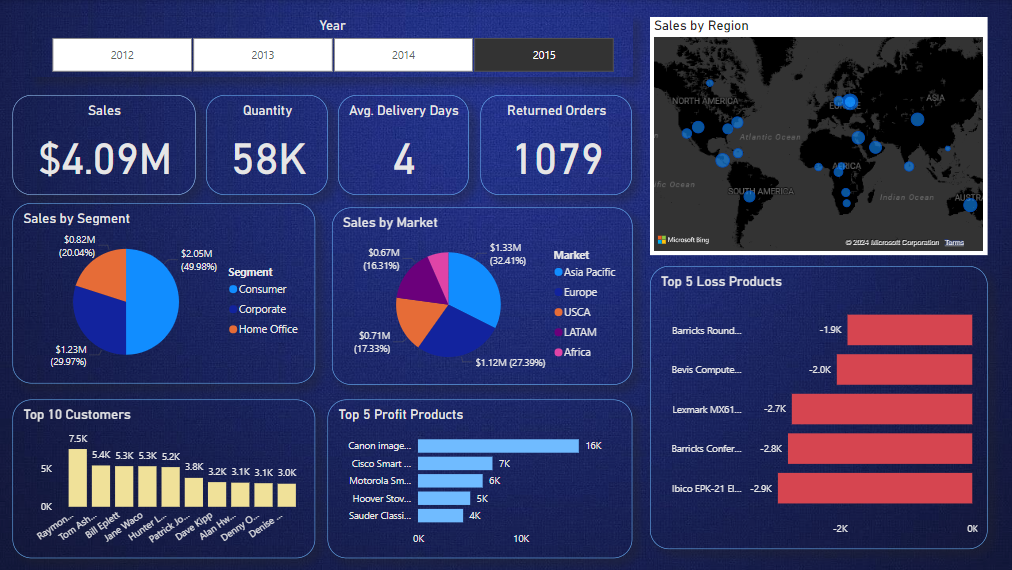

The page's visual inventory and layout, read from the dashboard file:
{"tool":"powerbi","page":{"name":"Page 1","canvas":[1280,720],"ordinal":0},"visuals":[{"type":"card","title":"Sales","fields":{"Values":["Orders.Sales"]},"box":[17.8,120.7,230.3,126.1],"z":0},{"type":"card","title":"Quantity","fields":{"Values":["Orders.Quantity"]},"box":[260.5,120.7,153.6,126.1],"z":1000},{"type":"card","title":"Avg. Delivery Days","fields":{"Values":["Orders.Delivery Days"]},"box":[427.8,120.7,164.5,126.1],"z":2000},{"type":"slicer","title":"Year","fields":{"Values":["Orders.Year"]},"box":[41.1,21.9,756.8,75.4],"z":3000},{"type":"card","title":"Returned Orders","fields":{"Values":["Returns.Return Num"]},"box":[607.4,120.7,190.6,126.1],"z":4000},{"type":"map","title":" Sales by Region","fields":{"Category":["Orders.Region"],"Size":["Orders.Sales"]},"box":[819.9,21.9,425,300.3],"z":5000},{"type":"clusteredBarChart","title":"Top 5 Profit Products","fields":{"Y":["Orders.Profit"],"Category":["Orders.Product Name"]},"box":[414.1,504.5,383.9,200.2],"z":6000},{"type":"clusteredBarChart","title":"Top 5 Loss Products","fields":{"Y":["Orders.Profit"],"Category":["Orders.Product Name"]},"box":[819.9,337.3,425,356.5],"z":7000},{"type":"pieChart","title":"Sales by Segment","fields":{"Category":["Orders.Segment"],"Y":["Orders.Sales"]},"box":[17.8,257.8,381.2,227.6],"z":8000},{"type":"pieChart","title":"Sales by Market","fields":{"Y":["Orders.Sales"],"Category":["Orders.Market"]},"box":[419.5,261.9,378.4,223.5],"z":9000},{"type":"columnChart","title":"Top 10 Customers","fields":{"Y":["Orders.Profit"],"Category":["Orders.Customer Name"]},"box":[17.8,504.5,381.2,200.2],"z":10000}]}

Visuals, with their boxes in screenshot pixels (x1, y1, x2, y2), scaled from the page's 1280x720 canvas onto the 1012x570 screenshot:
"Sales" card: 14 96 196 195
"Quantity" card: 206 96 327 195
"Avg. Delivery Days" card: 338 96 468 195
"Year" slicer: 32 17 631 77
"Returned Orders" card: 480 96 631 195
" Sales by Region" map: 648 17 984 255
"Top 5 Profit Products" clusteredBarChart: 327 399 631 558
"Top 5 Loss Products" clusteredBarChart: 648 267 984 549
"Sales by Segment" pieChart: 14 204 315 384
"Sales by Market" pieChart: 332 207 631 384
"Top 10 Customers" columnChart: 14 399 315 558
